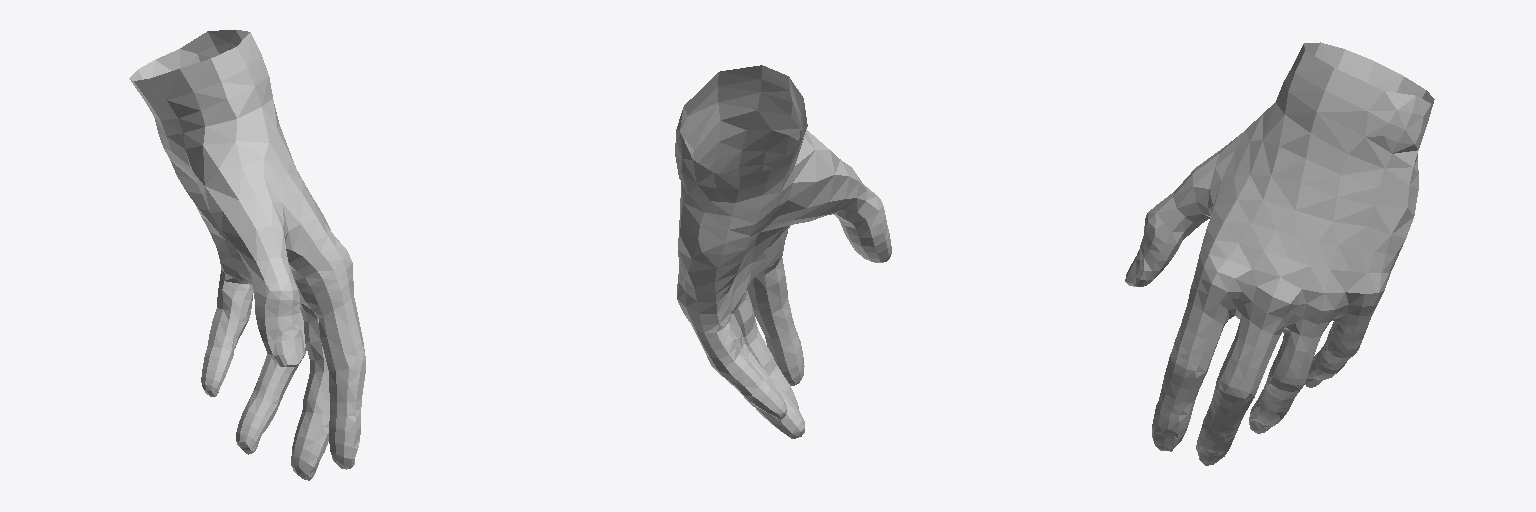
Rendered from HandLeft.obj.
3 views of the same model, side by side, from view 1: azimuth 30°, elevation 25°; view 2: azimuth 150°, elevation 25°; view 3: azimuth 270°, elevation 25° (orthographic).
Size of the model in its own units: 0.7772 by 2 by 1.39.